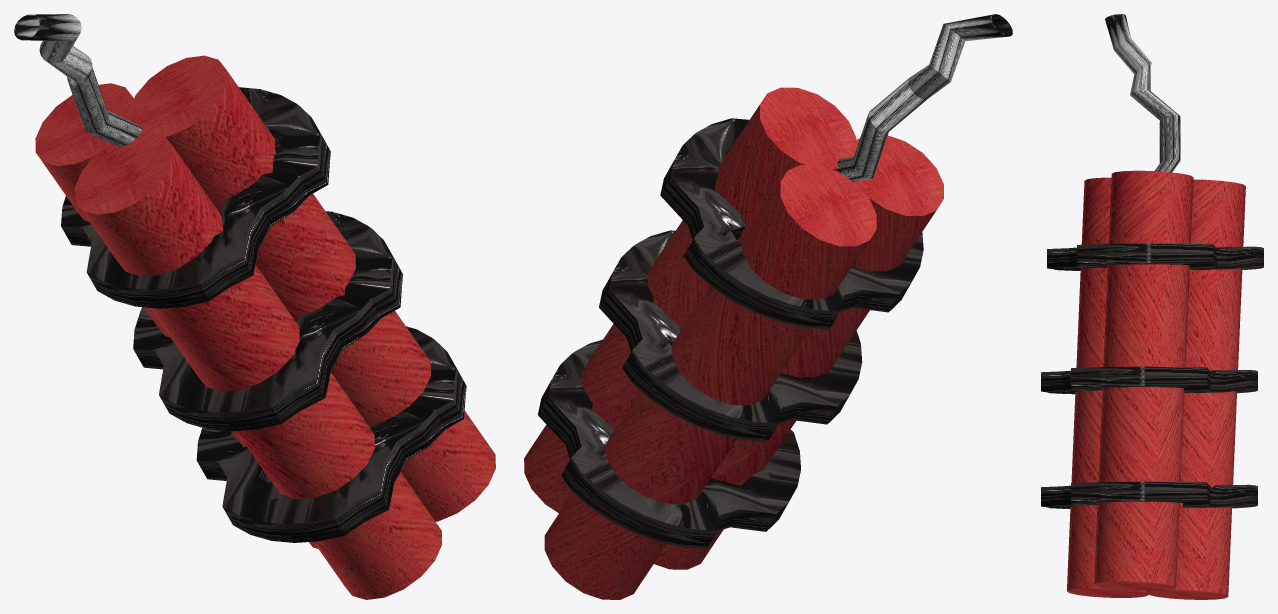
The model's file is dynamite.fbx.
3 renders of one model, left to right at view 1: azimuth 30°, elevation 25°; view 2: azimuth 150°, elevation 25°; view 3: azimuth 270°, elevation 25°, orthographic. The views are drawn at different scales.
Visible parts, largest first — view 1: Cylinder, Tube, Cylinder_2, Tube_3, Cylinder_3, Cylinder_1; view 2: Cylinder_1, Tube, Cylinder_2, Tube_3, Cylinder, Cylinder_3; view 3: Cylinder_2, Cylinder_1, Cylinder, Tube, Tube_3, Cylinder_3.
Boxes of the visible parts, <box> form: Cylinder: <box>75,131,441,599</box>; Tube: <box>133,211,466,542</box>; Cylinder_2: <box>129,55,495,521</box>; Tube_3: <box>61,87,330,308</box>; Cylinder_3: <box>14,14,141,146</box>; Cylinder_1: <box>35,83,318,548</box>; Cylinder_1: <box>544,164,876,599</box>; Tube: <box>538,230,862,548</box>; Cylinder_2: <box>524,87,856,512</box>; Tube_3: <box>660,118,923,329</box>; Cylinder: <box>654,135,943,569</box>; Cylinder_3: <box>837,14,1012,180</box>; Cylinder_2: <box>1094,170,1193,591</box>; Cylinder_1: <box>1146,179,1245,599</box>; Cylinder: <box>1067,177,1148,597</box>; Tube: <box>1041,366,1257,508</box>; Tube_3: <box>1047,243,1263,270</box>; Cylinder_3: <box>1105,14,1180,172</box>.
Bounding box in the file's own units: 0.8052 × 1.03 × 0.441.
3 materials, 3 textured.
